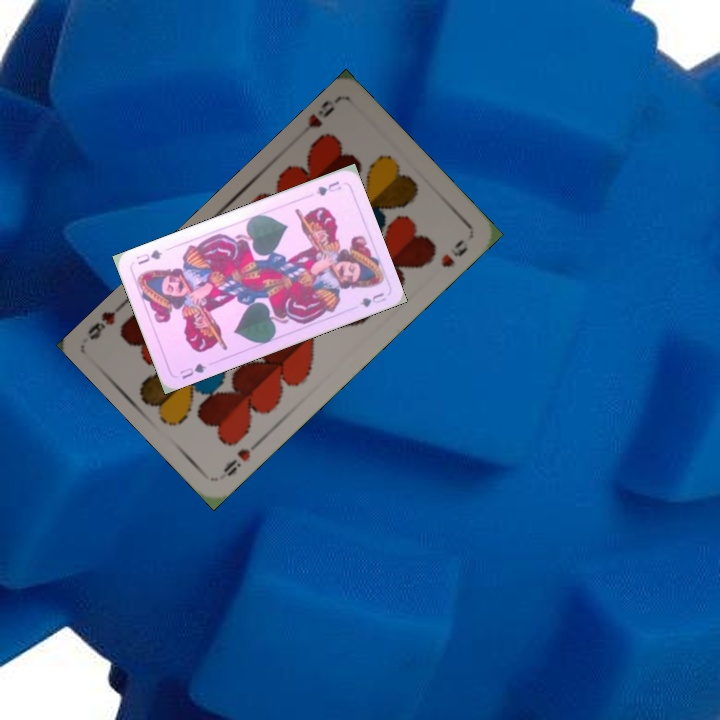GU: (176, 359, 209, 382), (311, 177, 344, 198)
H9: (219, 435, 264, 480), (303, 97, 337, 131)
